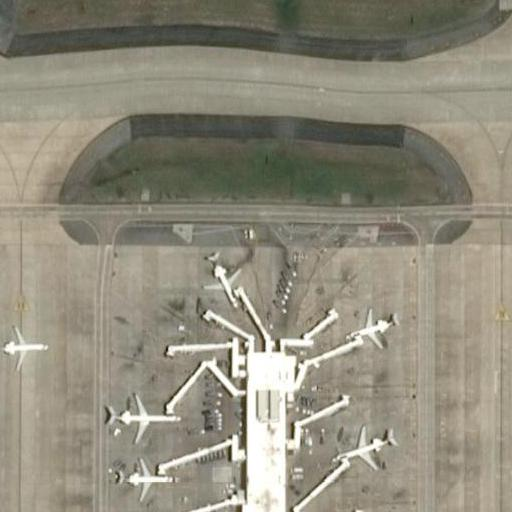Aircraft: (108, 389, 186, 443), (344, 298, 407, 354), (337, 416, 397, 474), (116, 454, 182, 503), (202, 249, 251, 312), (0, 319, 55, 375)
